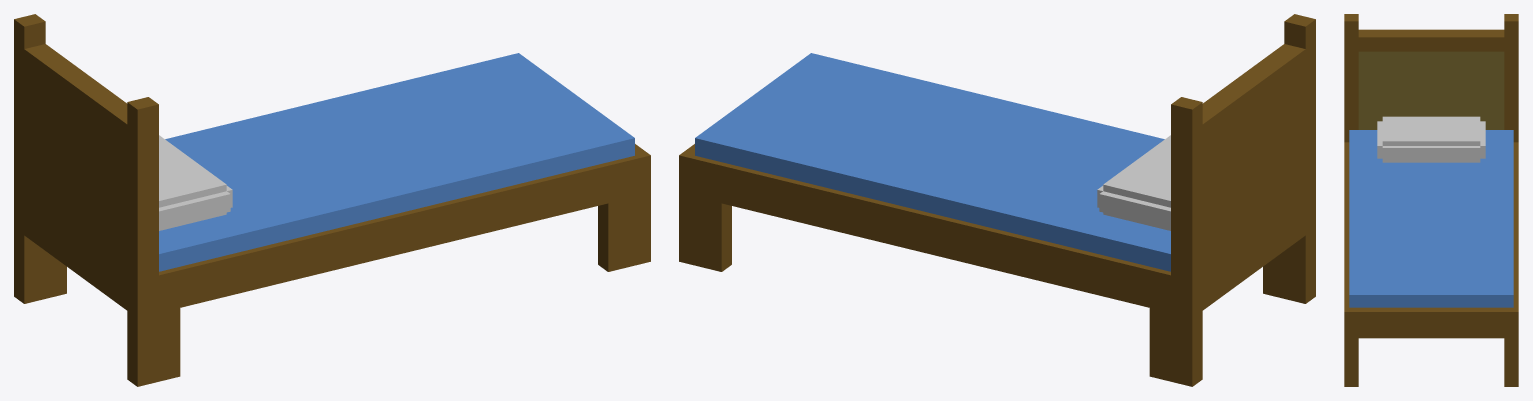
File: bed.fbx
3 renders of one model, left to right at view 1: azimuth 30°, elevation 25°; view 2: azimuth 150°, elevation 25°; view 3: azimuth 270°, elevation 25°, orthographic. The views are drawn at different scales.
Parts seen in each view (by area): view 1: bed, pillow; view 2: bed, pillow; view 3: bed, pillow.
Boxes of the visible parts, box(x1,y1,x2,y2) form: bed: box(14, 14, 650, 386); pillow: box(159, 135, 232, 230); bed: box(679, 14, 1315, 386); pillow: box(1097, 135, 1170, 230); bed: box(1344, 14, 1518, 386); pillow: box(1377, 116, 1485, 162).
Bounding box in the file's own units: 600 × 310 × 250.
